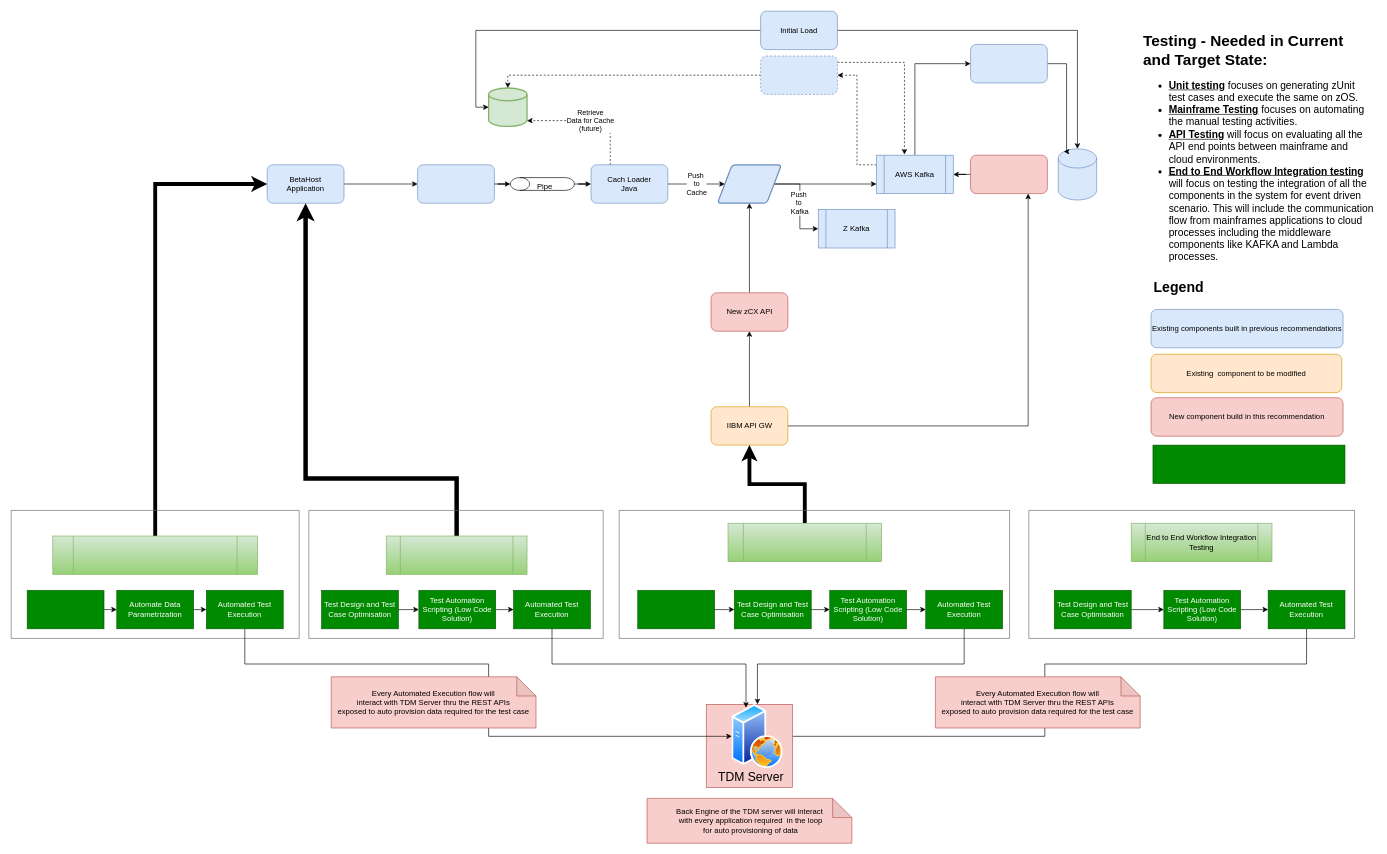
Image size: 1387x854. Some labels were removed from this diagram. Here are the shapes that lost their labels. From the top down, the centre of each, then its label:
pixel 798 74: Event Enricher
pixel 1008 63: Data Change Event Processing Lambda
pixel 507 107: DB2 DB
pixel 455 183: BetaHost Event generation program
pixel 749 184: zDIH Cache
pixel 1008 174: New Lambda API
pixel 1077 174: CQRS DB
pixel 1248 464: Test Process
pixel 155 554: Unit Testing on zOS
pixel 456 554: Mainframe Test Automation
pixel 804 542: API Test Automation
pixel 65 609: Generate zUnit test cases using IDz
pixel 676 609: API Specification Parsing
